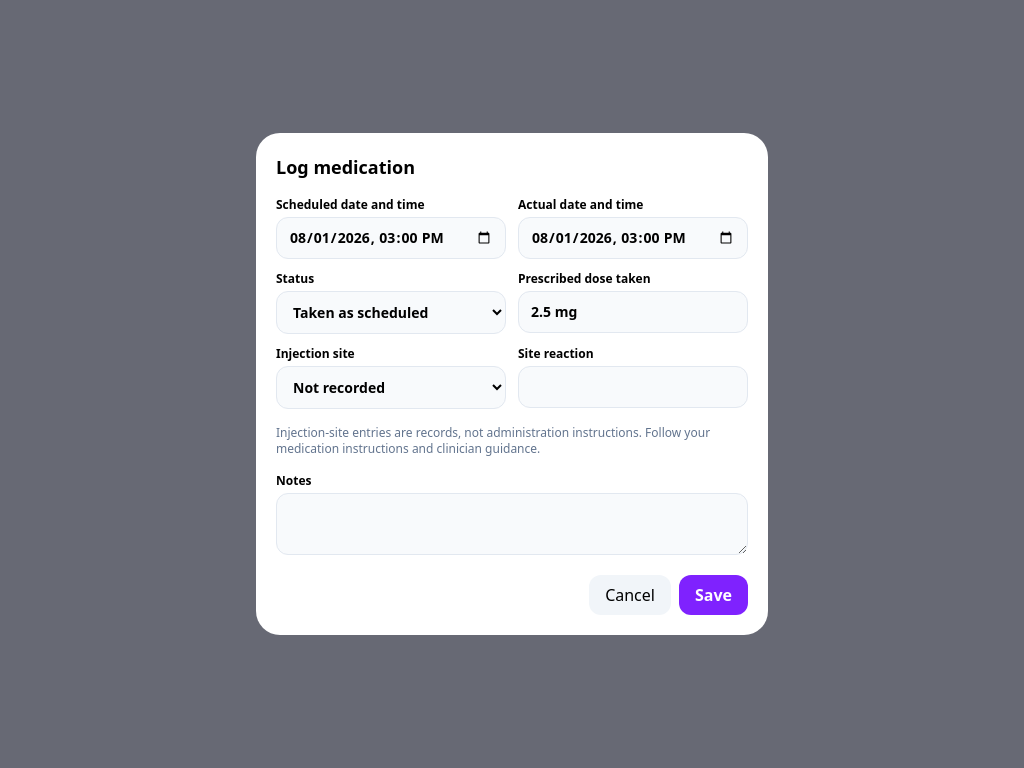
Test: MedicationLogModal › shows missed/delayed guidance for postponed
The width and height of the screenshot is (1024, 768).
Select "Postponed" in the dropdown labelled "Status". click: [391, 312]
box: left=276, top=291, right=506, bottom=334
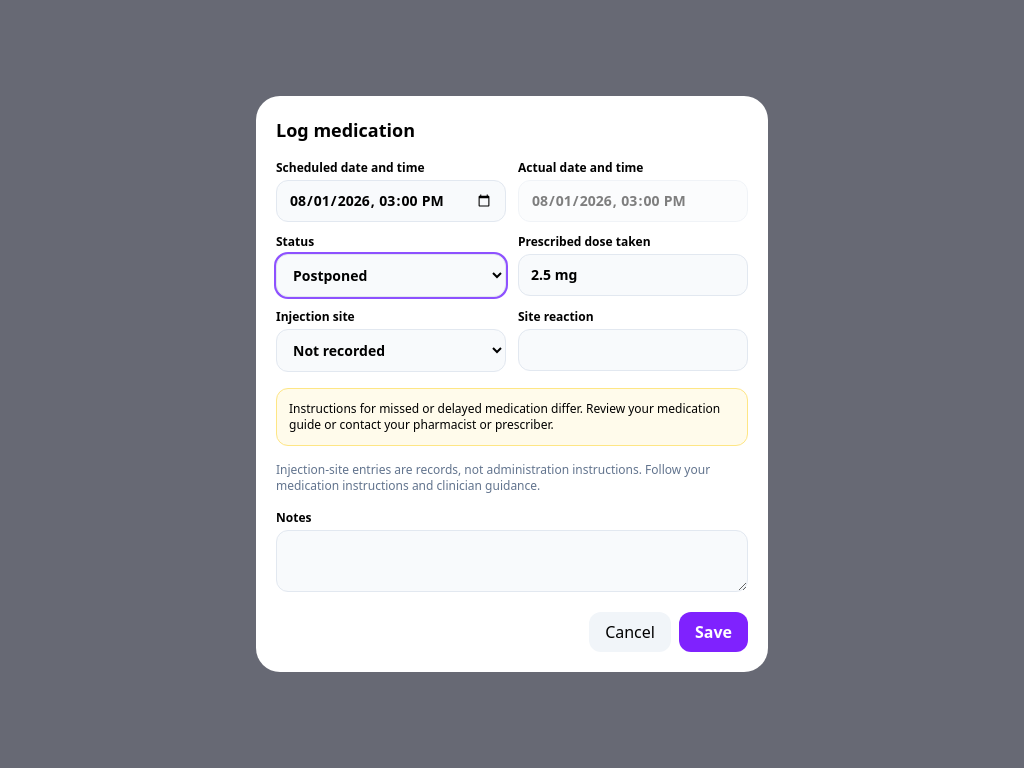
Now the text "Instructions for missed or delayed medication differ" is shown, box left=289, top=400, right=720, bottom=433
Now the field labelled "Actual date and time" is disabled, box left=518, top=180, right=748, bottom=222
